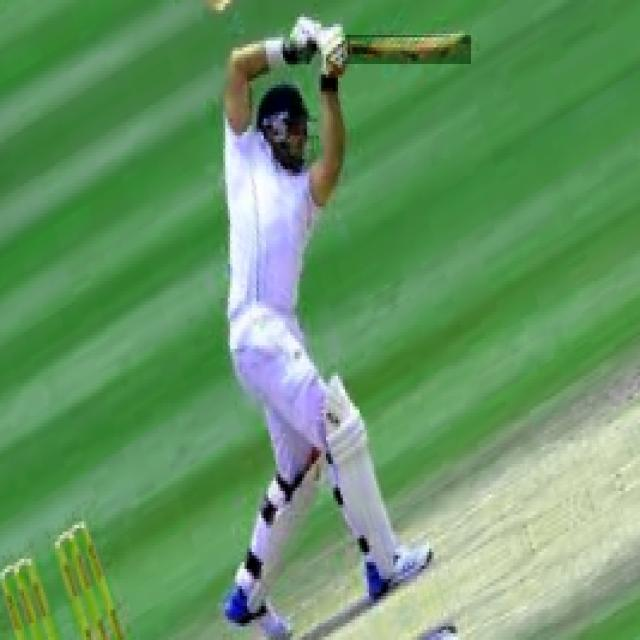bat: (345, 33, 473, 67)
toe: (458, 30, 468, 66)
